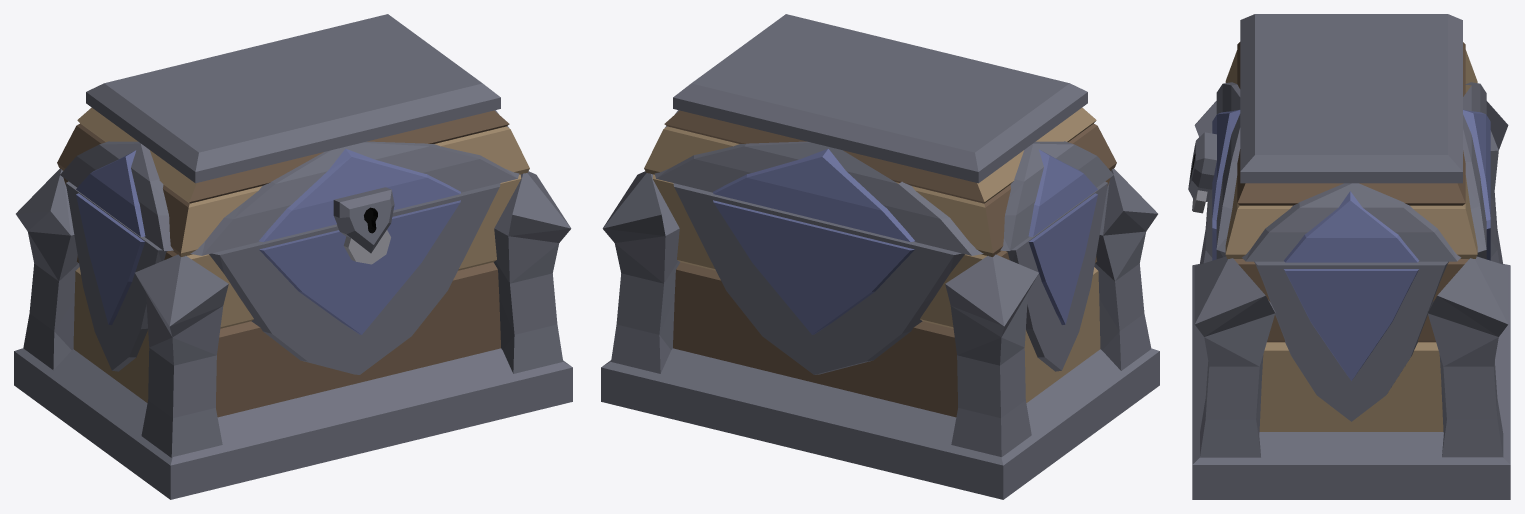
The model's file is _trunk_11.fbx.
3 views of the same model, side by side, from view 1: azimuth 30°, elevation 25°; view 2: azimuth 150°, elevation 25°; view 3: azimuth 270°, elevation 25° (orthographic).
Parts seen in each view (by area): view 1: trunk_11; view 2: trunk_11; view 3: trunk_11.
Part boxes in pixels (bbox=[...]): trunk_11: bbox=[14, 14, 572, 499]; trunk_11: bbox=[601, 14, 1159, 499]; trunk_11: bbox=[1188, 14, 1510, 499].
Bounding box in the file's own units: 94.33 × 69.52 × 64.36.
